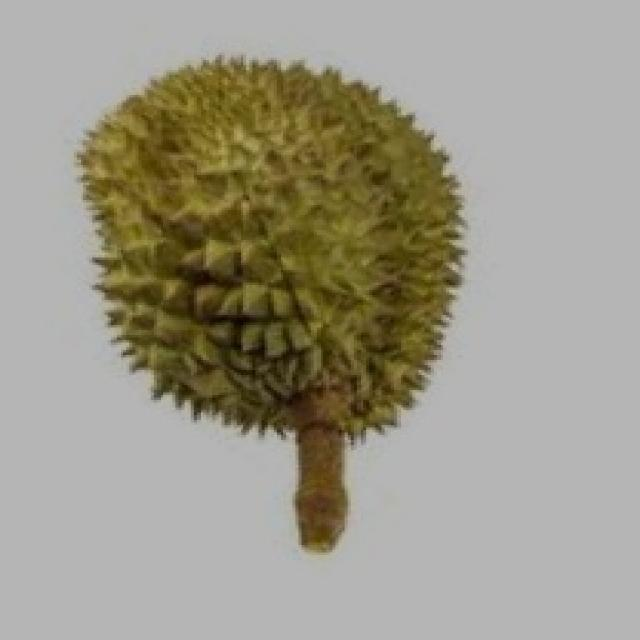fruit: (37, 55, 385, 493)
